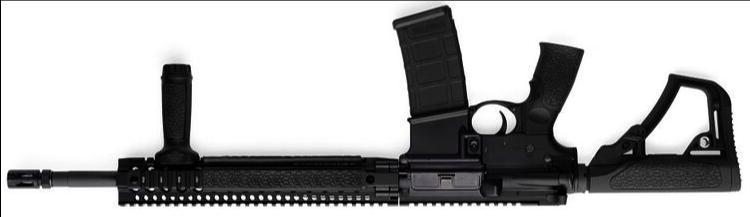gun: (6, 4, 741, 207)
